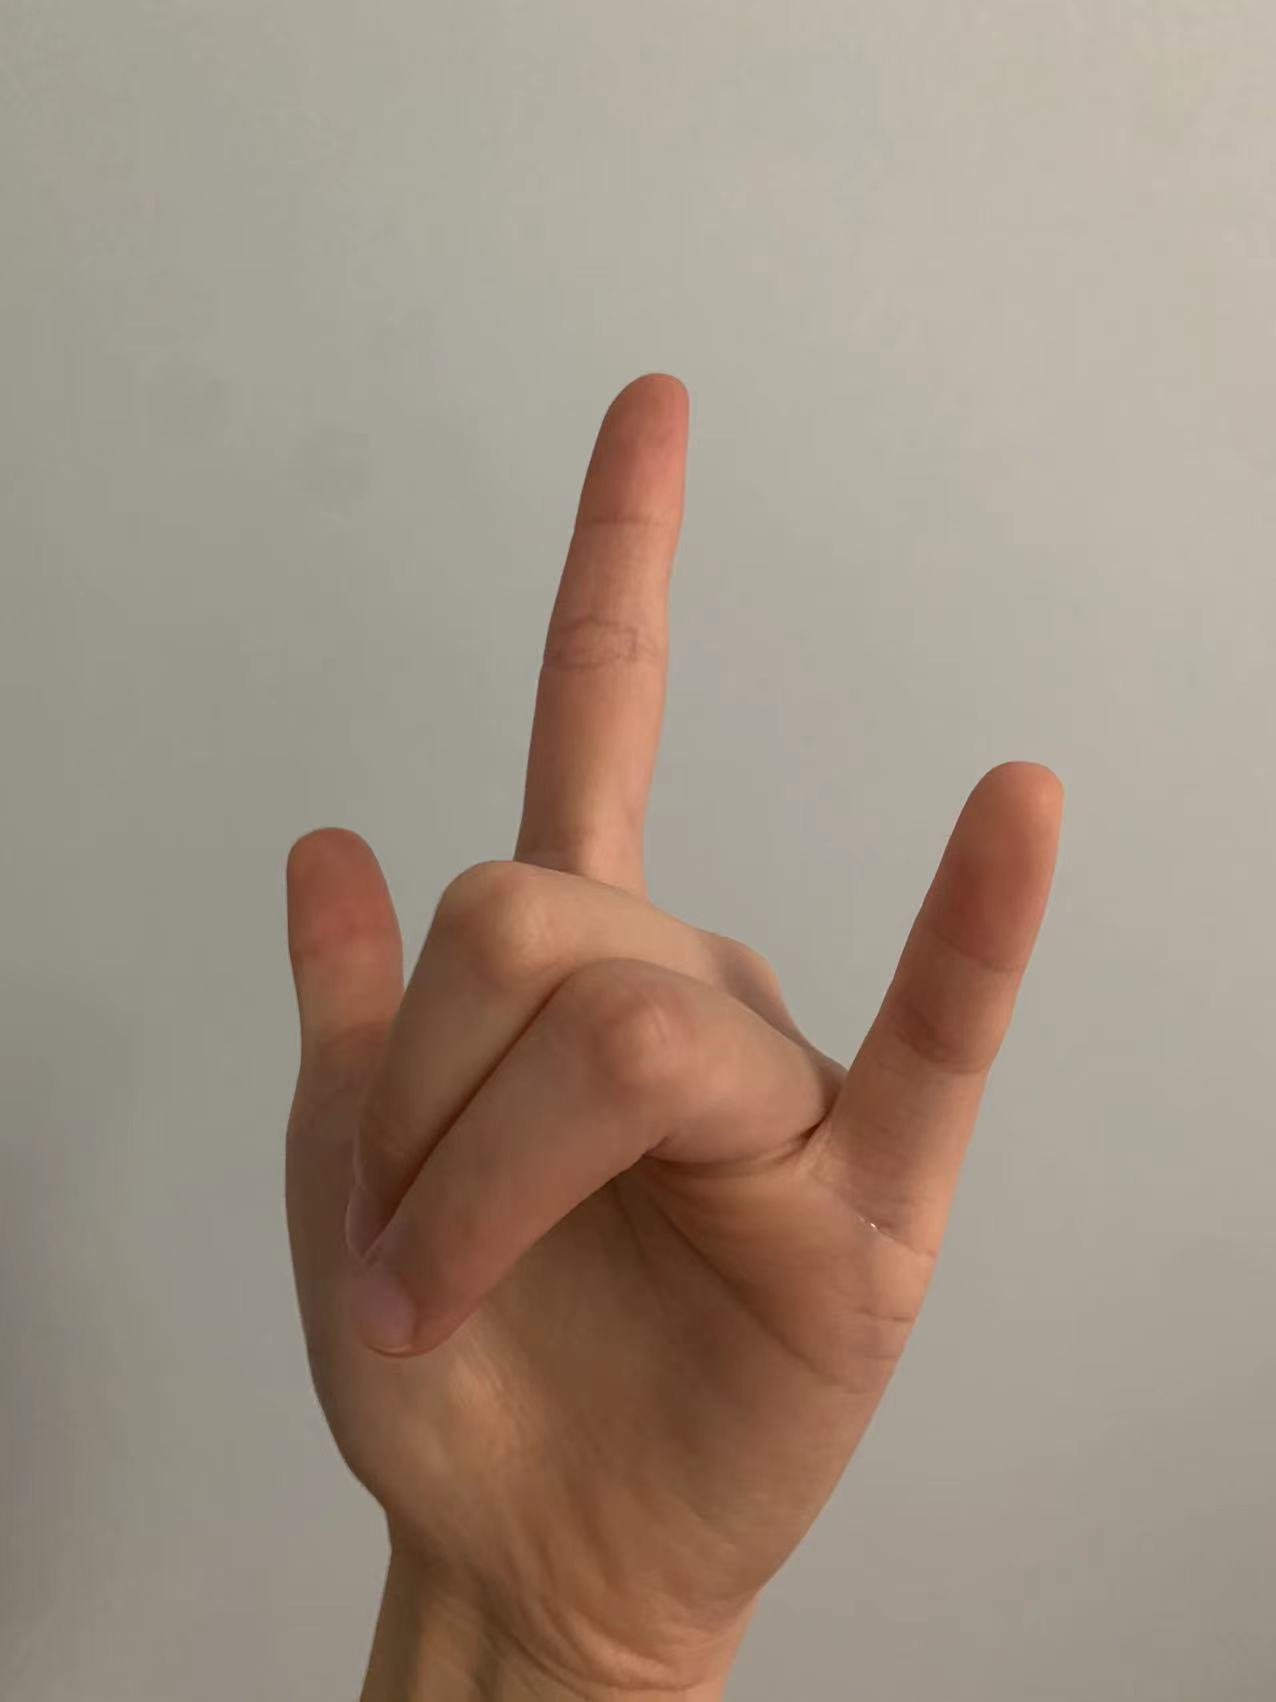back: (261, 381, 1076, 1606)
